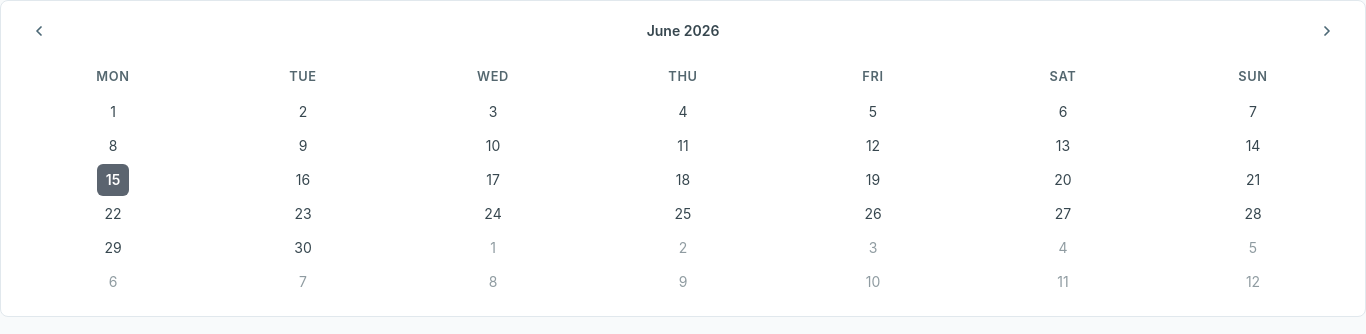
Calendar — month navigation buttons › clicking "Previous month" steps back one month
The width and height of the screenshot is (1366, 334).
Click the button named "previous month" at (39, 31), box left=25, top=17, right=53, bottom=45
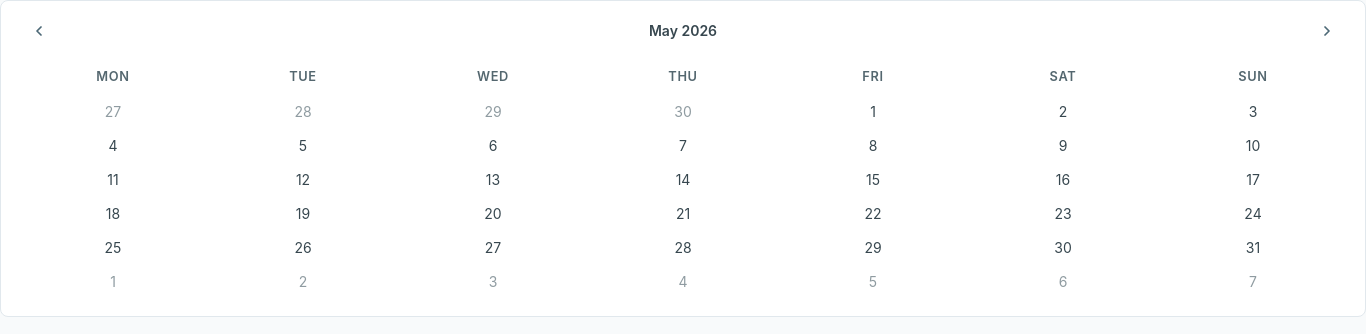
Check: the number of buttons named "Previous month" is 2, box left=25, top=17, right=53, bottom=45; left=1313, top=17, right=1341, bottom=45
Check: the text "May 2026" is shown, box left=649, top=22, right=717, bottom=39
